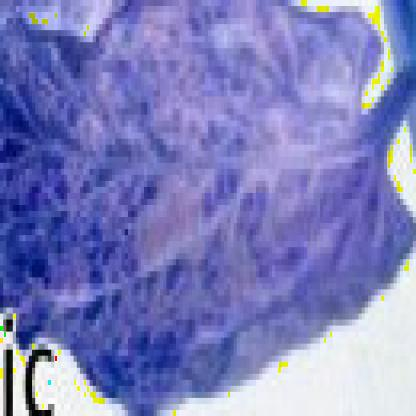tomato leaf mosaic virus: (6, 12, 413, 410)
